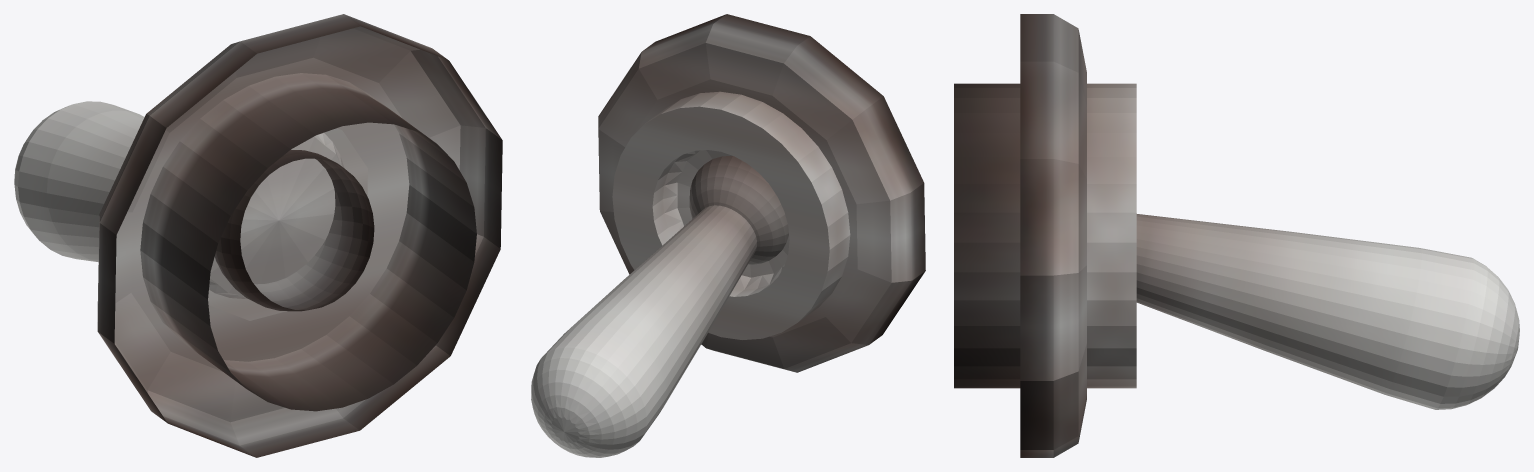
File: switch.obj
3 views of the same model, side by side, from view 1: azimuth 30°, elevation 25°; view 2: azimuth 150°, elevation 25°; view 3: azimuth 270°, elevation 25° (orthographic). The views are drawn at different scales.
Visible parts, largest first — view 1: base, switch; view 2: base, switch; view 3: base, switch.
Boxes of the visible parts, x1=… form: base: x1=97, y1=14, x2=502, y2=457; switch: x1=14, y1=101, x2=374, y2=311; base: x1=598, y1=14, x2=925, y2=372; switch: x1=531, y1=156, x2=788, y2=457; base: x1=954, y1=14, x2=1136, y2=457; switch: x1=1136, y1=214, x2=1519, y2=409.
Bounding box in the file's own units: 0.0133 × 0.0133 × 0.017.
Materials: 1 (1 with a texture image).
